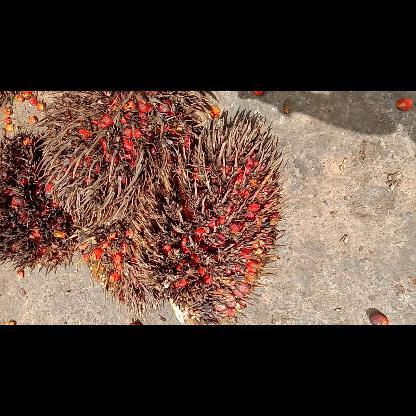Terlalu masak: (130, 104, 286, 324), (35, 90, 225, 232), (0, 125, 83, 277), (70, 218, 174, 322)
